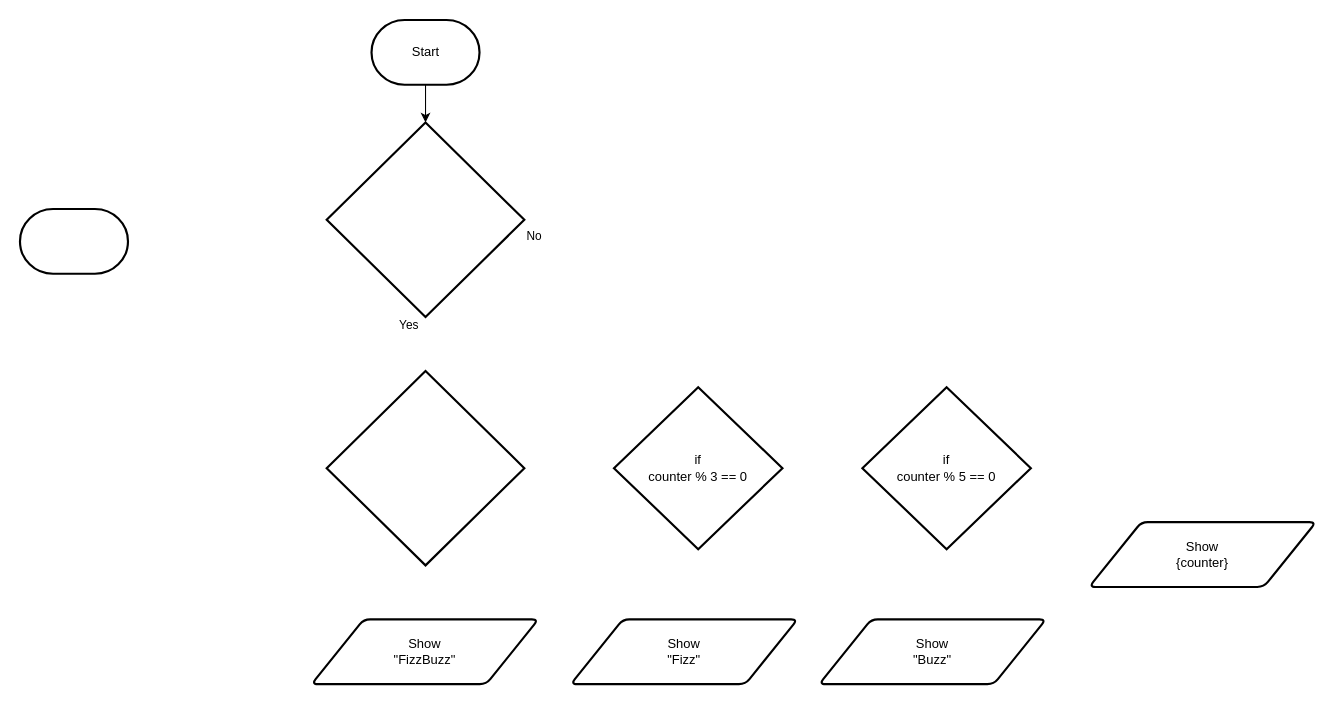
This 1335x703 diagram has some shape labels left out. Each missing label, with the centre of its shape:
"for counter = 1; counter <= 100; counter++" belongs at point 425,219.
"if counter % 3 == 0 && counter %5 == 0" belongs at point 425,467.
"Stop" belongs at point 73,240.
